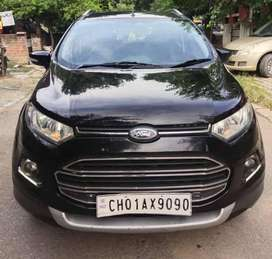CH01AX9090: (96, 192, 192, 218)
